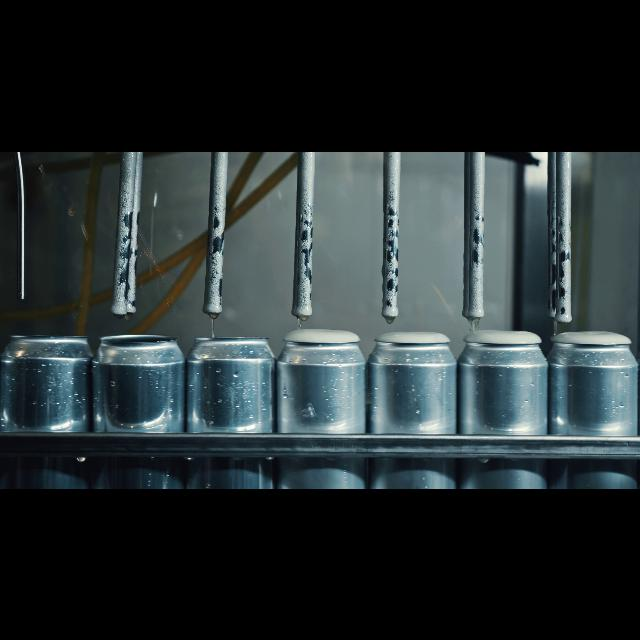empty: (0, 326, 94, 488), (190, 332, 276, 488), (103, 330, 185, 488)
full: (280, 320, 364, 488), (550, 332, 640, 488), (369, 322, 451, 488), (463, 326, 542, 488)
